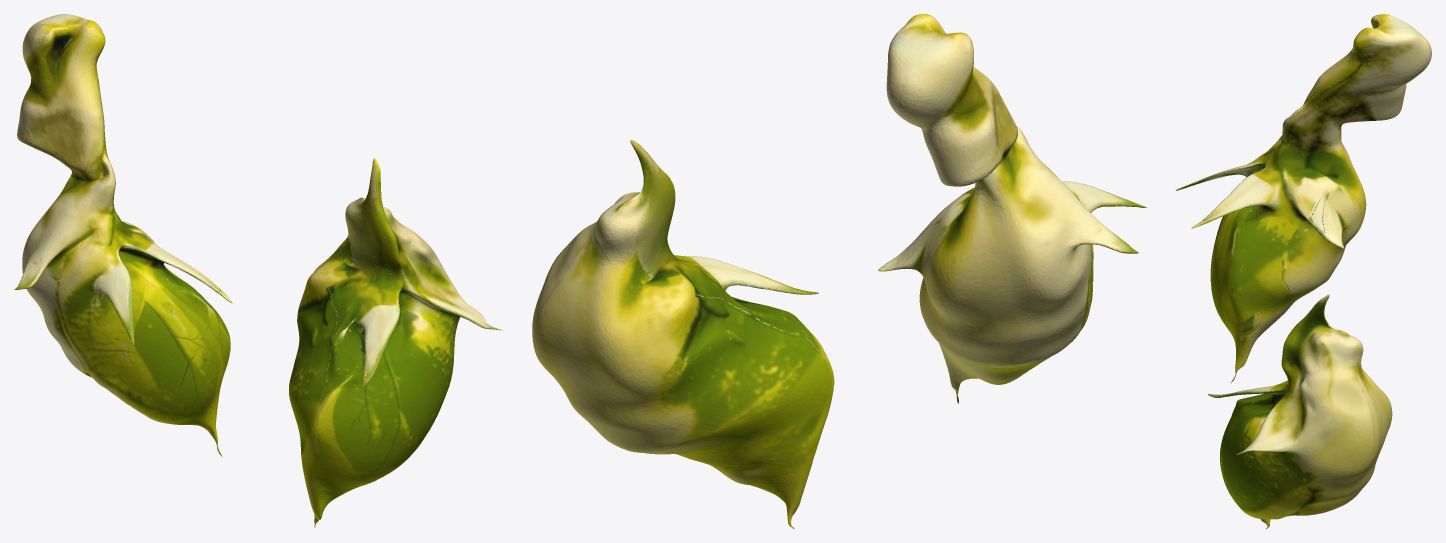
File: chickpea.glb
3 renders of one model, left to right at view 1: azimuth 30°, elevation 25°; view 2: azimuth 150°, elevation 25°; view 3: azimuth 270°, elevation 25°, orthographic. The views are drawn at different scales.
Parts seen in each view (by area): view 1: world; view 2: world; view 3: world.
Part boxes in pixels (box(x1,y1,x2,y2)): world: box(14, 14, 503, 527); world: box(532, 14, 1146, 528); world: box(1175, 14, 1431, 528).
Bounding box in the file's own units: 1.89 × 1.96 × 1.06.
1 material, 1 textured.
